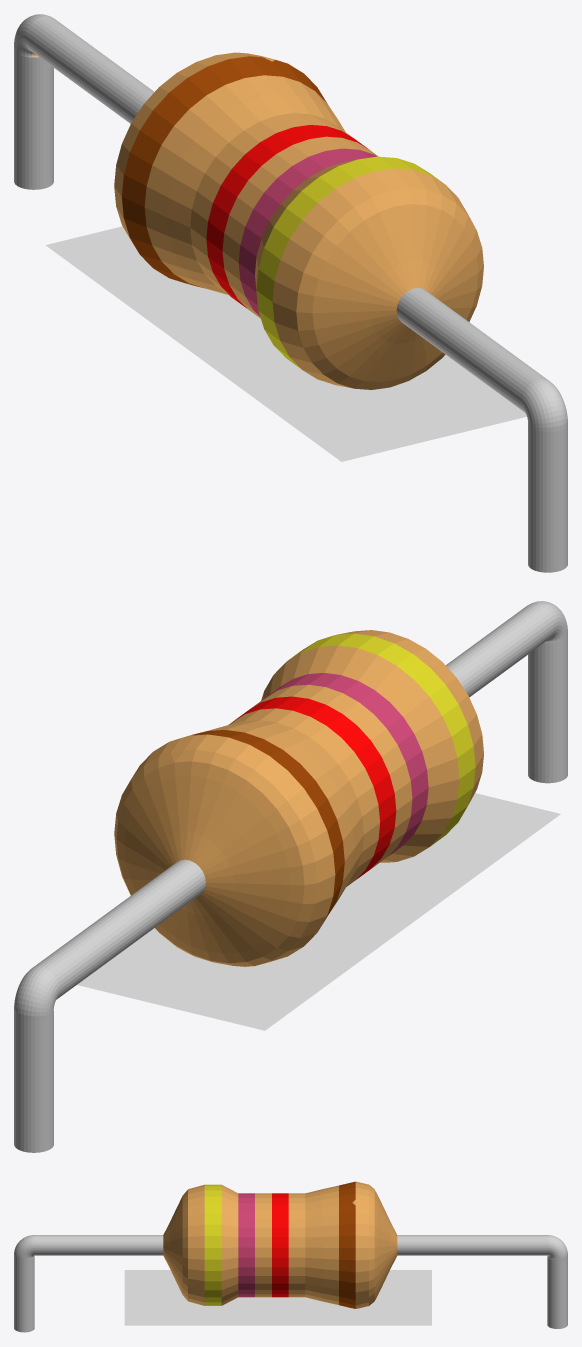
File: R4_tan_2.gltf
3 renders of one model, top to bottom at view 1: azimuth 30°, elevation 25°; view 2: azimuth 150°, elevation 25°; view 3: azimuth 270°, elevation 25°, orthographic. The views are drawn at different scales.
Visible parts, largest first — view 1: R4_tan_2, R4_tan_2_plane; view 2: R4_tan_2, R4_tan_2_plane; view 3: R4_tan_2, R4_tan_2_plane.
Part boxes in pixels (box(x1,y1,x2,y2)): R4_tan_2: box(14, 14, 567, 572); R4_tan_2_plane: box(45, 226, 526, 461); R4_tan_2: box(14, 601, 567, 1152); R4_tan_2_plane: box(77, 793, 560, 1030); R4_tan_2: box(14, 1181, 567, 1332); R4_tan_2_plane: box(124, 1270, 431, 1325).
Size of the model in its own units: 0.0161 by 0.0189 by 0.0676.
